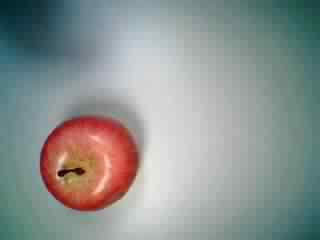apple: (32, 113, 138, 217)
